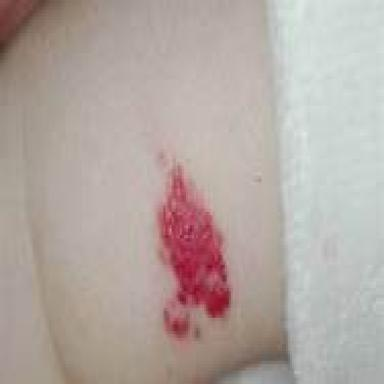Hemangiome: (159, 163, 230, 337)
